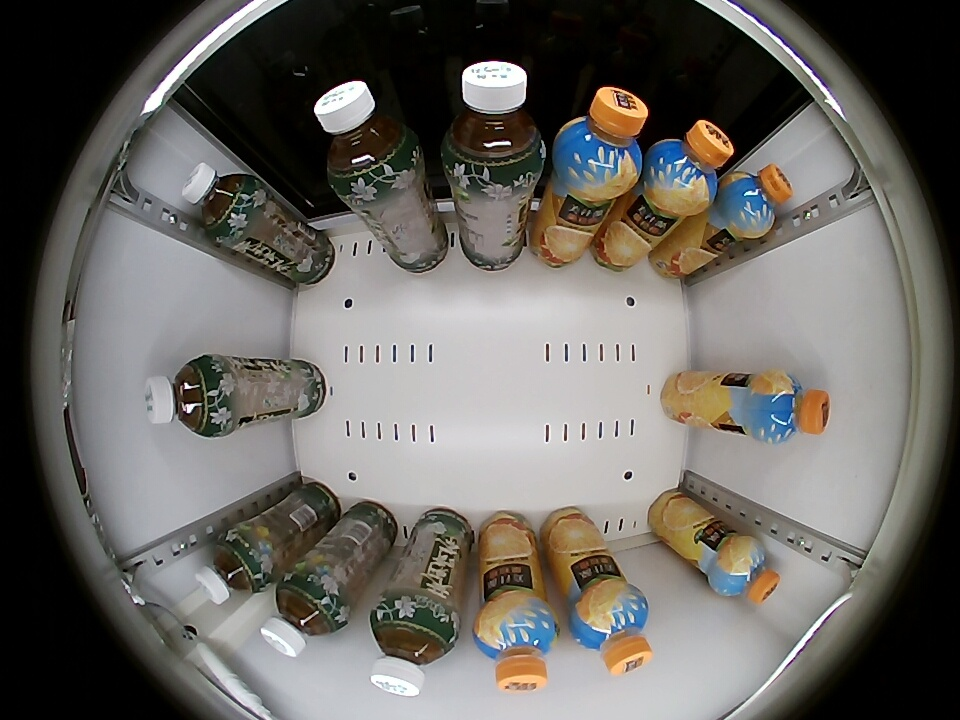guolicheng: (551, 86, 648, 198), (473, 595, 559, 692), (646, 119, 733, 213), (570, 582, 651, 675), (748, 369, 831, 444), (720, 164, 793, 238), (710, 534, 781, 605)
moliqingcha: (440, 60, 546, 184), (314, 80, 420, 194), (369, 601, 459, 698), (260, 572, 347, 658), (143, 354, 230, 436), (182, 163, 259, 241), (196, 531, 269, 604)
